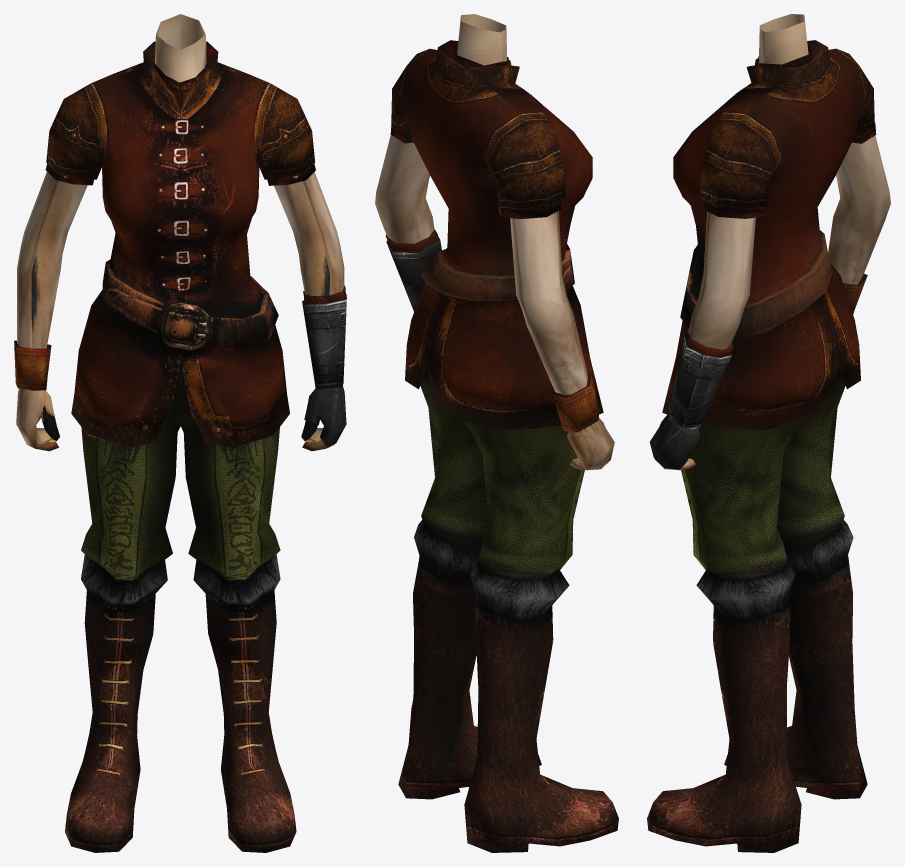
File: HEAVYOLSAARMOR_01.glb
3 views of the same model, side by side, from view 1: azimuth 30°, elevation 25°; view 2: azimuth 150°, elevation 25°; view 3: azimuth 270°, elevation 25° (orthographic).
Visible parts, largest first — view 1: HEAVYOLSAARMOR_01; view 2: HEAVYOLSAARMOR_01; view 3: HEAVYOLSAARMOR_01.
Boxes of the visible parts, x1,y1,x2,y2 form: HEAVYOLSAARMOR_01: [14, 14, 346, 852]; HEAVYOLSAARMOR_01: [375, 14, 618, 852]; HEAVYOLSAARMOR_01: [647, 14, 890, 852].
Size of the model in its own units: 0.6067 by 1.67 by 0.4649.
Materials: 2 (2 with a texture image).
